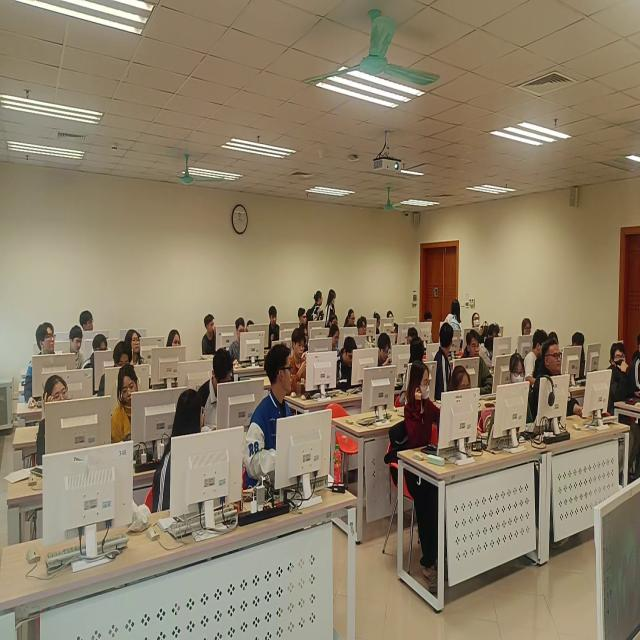raise_head: (32, 375, 72, 469), (536, 340, 581, 421), (25, 322, 56, 406), (461, 330, 492, 395), (607, 338, 632, 413), (126, 328, 148, 365), (164, 322, 183, 353), (356, 314, 370, 341), (521, 316, 534, 338), (469, 308, 482, 327)
stand: (307, 288, 325, 324), (446, 297, 463, 335), (324, 288, 340, 326)
using_computer: (403, 359, 437, 449), (198, 347, 233, 431), (113, 367, 140, 447), (97, 342, 134, 400), (510, 353, 536, 430), (523, 326, 547, 383), (338, 336, 360, 391), (84, 333, 108, 374), (450, 363, 473, 402), (231, 316, 248, 367), (200, 313, 219, 355), (69, 325, 85, 372), (267, 303, 282, 348), (377, 332, 391, 371), (327, 325, 341, 354), (425, 310, 435, 344), (344, 308, 356, 328), (407, 325, 418, 346), (373, 311, 381, 337), (387, 307, 395, 321)
using_phone: (289, 330, 310, 394)
